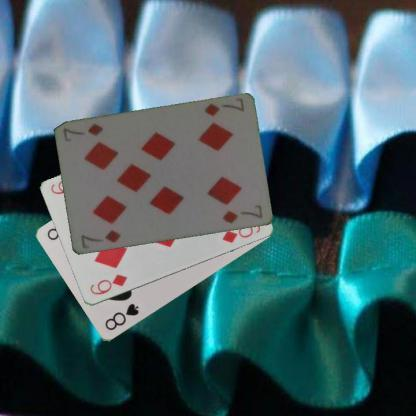6d: (87, 272, 128, 296)
7d: (201, 96, 246, 118), (78, 228, 122, 250)
8s: (102, 301, 140, 332)
